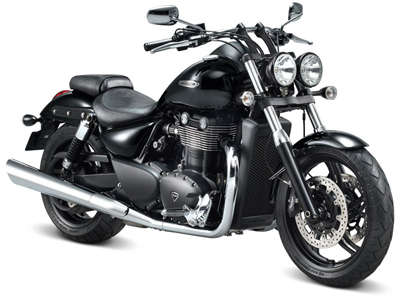motorcycle: (27, 24, 391, 287)
